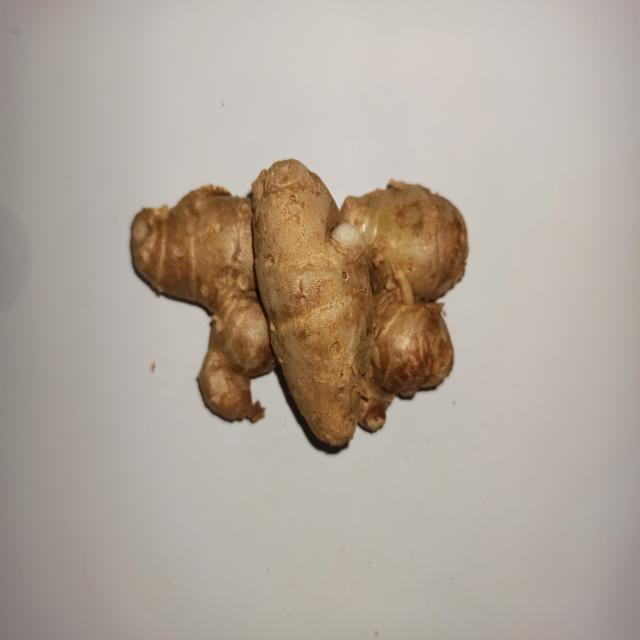ginger: (135, 163, 467, 447)
